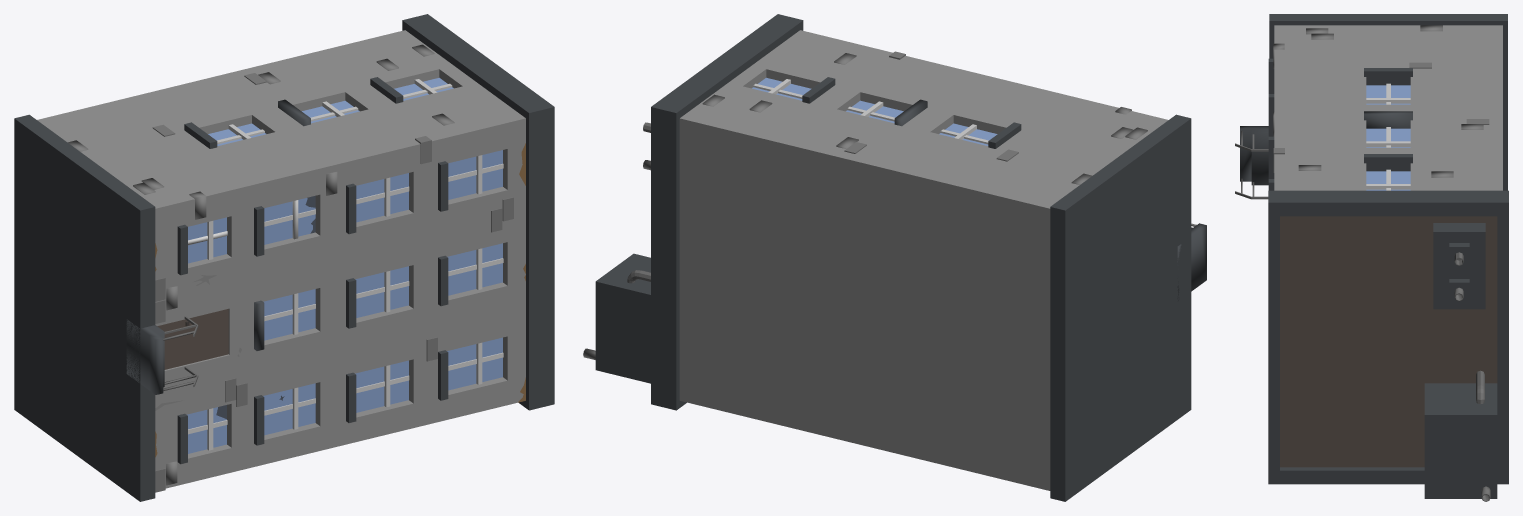
File: House2Broke.fbx
The picture shows the model from 3 angles, left to right: view 1: azimuth 30°, elevation 25°; view 2: azimuth 150°, elevation 25°; view 3: azimuth 270°, elevation 25°; orthographic projection. The views are drawn at different scales.
Visible parts, largest first — view 1: House2_fracturepart90, House2_fracturepart83, House2_fracturepart66, House2_fracturepart40, House2_fracturepart135, House2_fracturepart54, House2_fracturepart7, House2_fracturepart155, House2_fracturepart154, House2_fracturepart35, House2_fracturepart95, House2_fracturepart82 (+59 smaller); view 2: House2_fracturepart74, House2_fracturepart82, House2_fracturepart90, House2_fracturepart91, House2_fracturepart144, House2_fracturepart172, House2_fracturepart69, House2_fracturepart171, House2_fracturepart97, House2_fracturepart18, House2_fracturepart154, House2_fracturepart6 (+49 smaller); view 3: House2_fracturepart54, House2_fracturepart66, House2_fracturepart13, House2_fracturepart29, House2_fracturepart161, House2_fracturepart63, House2_fracturepart90, House2_fracturepart9, House2_fracturepart97, House2_fracturepart164, House2_fracturepart6, House2_fracturepart3 (+43 smaller).
Boxes of the visible parts, x1,y1,x2,y2 form: House2_fracturepart90: (71, 154, 179, 283); House2_fracturepart83: (138, 163, 244, 283); House2_fracturepart66: (498, 286, 554, 410); House2_fracturepart40: (225, 154, 307, 262); House2_fracturepart135: (429, 245, 533, 330); House2_fracturepart54: (477, 57, 554, 173); House2_fracturepart7: (111, 280, 177, 422); House2_fracturepart155: (333, 302, 405, 414); House2_fracturepart154: (14, 141, 86, 242); House2_fracturepart35: (478, 197, 554, 288); House2_fracturepart95: (271, 397, 381, 462); House2_fracturepart82: (37, 93, 181, 143); House2_fracturepart74: (720, 267, 832, 388); House2_fracturepart82: (939, 154, 1047, 277); House2_fracturepart90: (1067, 114, 1191, 232); House2_fracturepart91: (745, 189, 853, 310); House2_fracturepart144: (644, 309, 742, 414); House2_fracturepart172: (891, 152, 974, 283); House2_fracturepart69: (808, 146, 926, 227); House2_fracturepart171: (595, 277, 683, 381); House2_fracturepart97: (651, 72, 753, 175); House2_fracturepart18: (1017, 153, 1109, 283); House2_fracturepart154: (1046, 165, 1137, 289); House2_fracturepart6: (651, 228, 725, 309); House2_fracturepart54: (1268, 182, 1397, 267); House2_fracturepart66: (1268, 372, 1343, 484); House2_fracturepart13: (1424, 421, 1497, 498); House2_fracturepart29: (1268, 337, 1388, 388); House2_fracturepart161: (1386, 183, 1441, 298); House2_fracturepart63: (1382, 296, 1448, 373); House2_fracturepart90: (1269, 14, 1399, 57); House2_fracturepart9: (1292, 275, 1394, 337); House2_fracturepart97: (1418, 178, 1508, 233); House2_fracturepart164: (1306, 379, 1390, 449); House2_fracturepart6: (1437, 316, 1508, 373); House2_fracturepart3: (1282, 253, 1369, 318).
Bounding box in the file's own units: 1544 × 893 × 786.
Materials: 1 (1 with a texture image).
